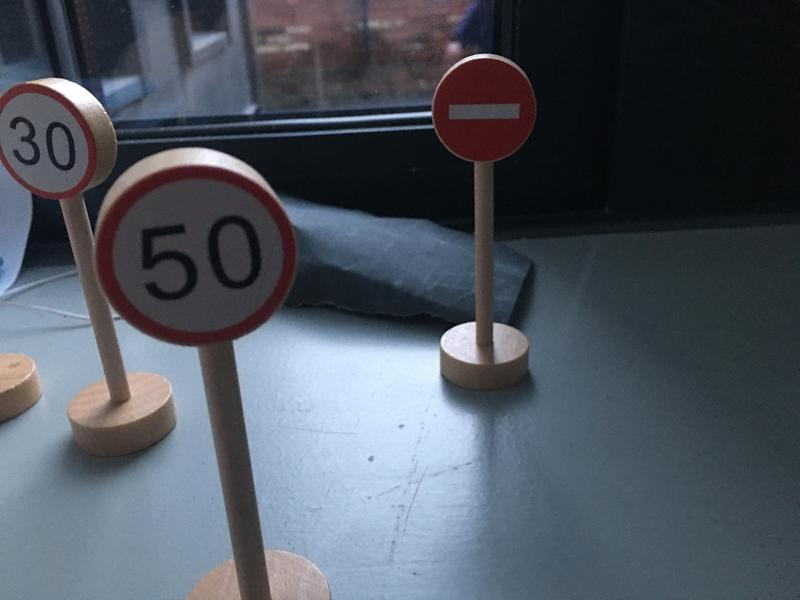Traffic_Sign_30: (2, 82, 95, 198)
Traffic_Sign_50: (93, 174, 295, 345)
Traffic_Sign_No_Entry: (432, 59, 537, 164)
